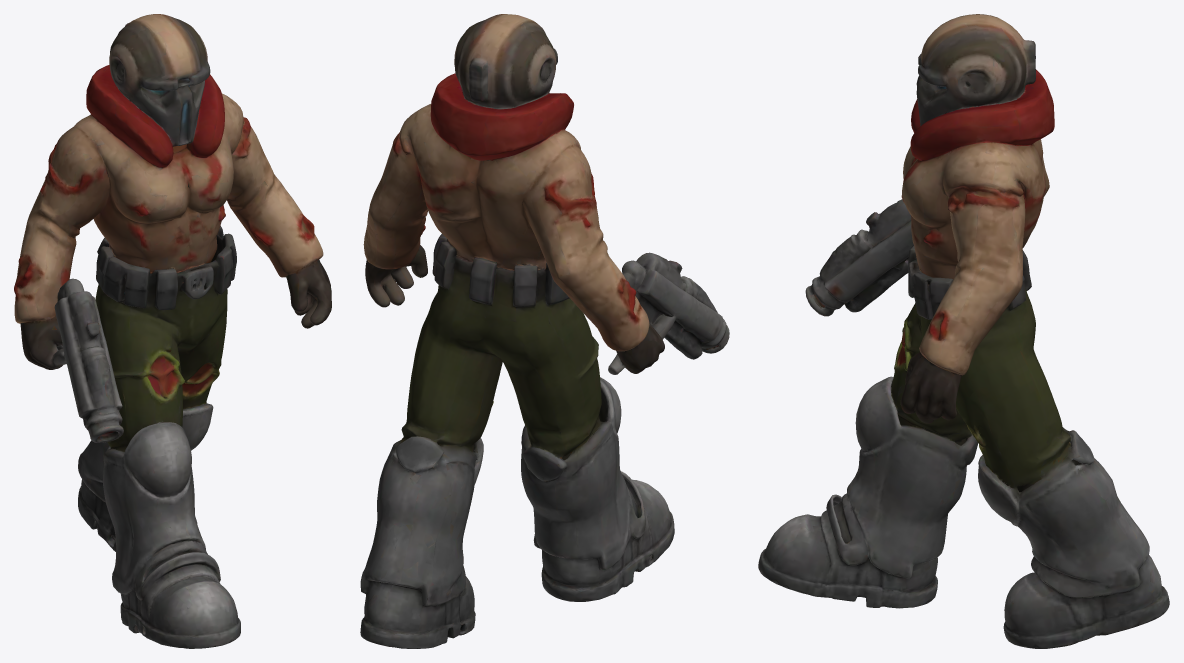
The model's file is POSSB1_2026-08-15T181445.469.glb.
The picture shows the model from 3 angles, left to right: view 1: azimuth 30°, elevation 25°; view 2: azimuth 150°, elevation 25°; view 3: azimuth 270°, elevation 25°; orthographic projection. The views are drawn at different scales.
Parts seen in each view (by area): view 1: world; view 2: world; view 3: world.
Boxes of the visible parts, left/top/right/bottom form: world: left=14, top=14, right=331, bottom=648; world: left=360, top=14, right=729, bottom=648; world: left=758, top=14, right=1169, bottom=648.
Bounding box in the file's own units: 0.5391 × 1 × 0.6258.
Materials: 1 (1 with a texture image).
